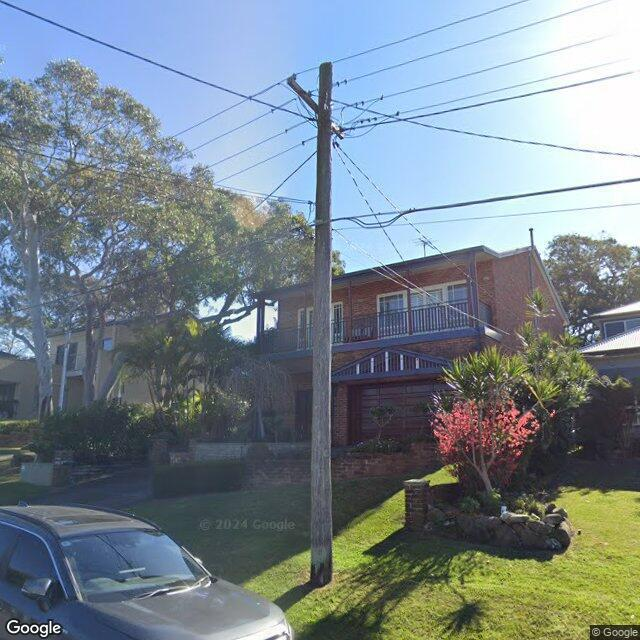crossarm: (285, 75, 346, 140)
timber-pole: (309, 61, 334, 585)
